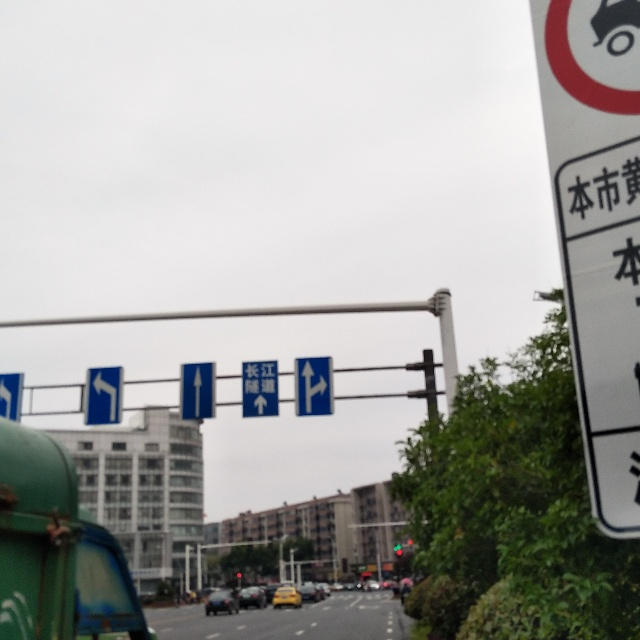left: (85, 364, 124, 429), (1, 372, 28, 432)
straight: (180, 358, 219, 422)
